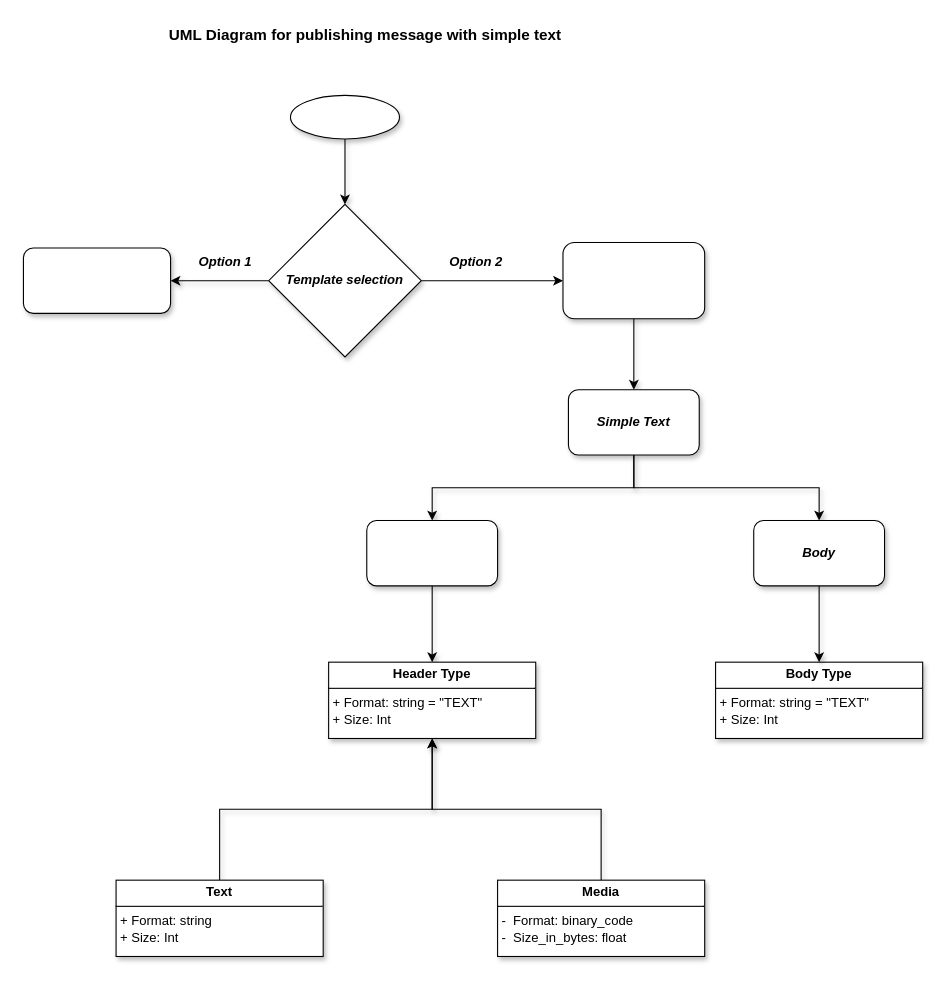
Some shapes in this 948 by 983 pixel diagram are drawn without their labels. The shapes that lost their labels are listed below. From the top down, each one's centre as x and y in pixels, then its label:
At [345,118]: "Start".
At [97,282]: "Create New Template".
At [634,281]: "Select template from existing template list".
At [432,554]: "Header".
